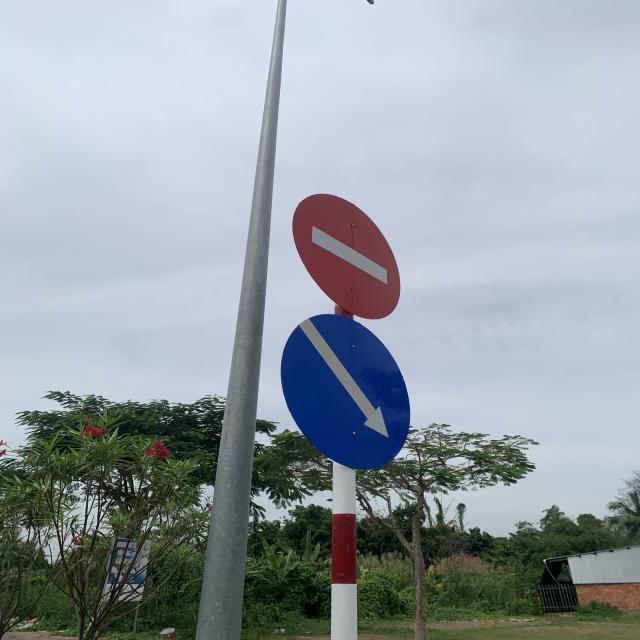Cam_Di_Nguoc_Chieu: (292, 191, 403, 318)
Chi_Huong_Di_Phai: (280, 314, 410, 468)
